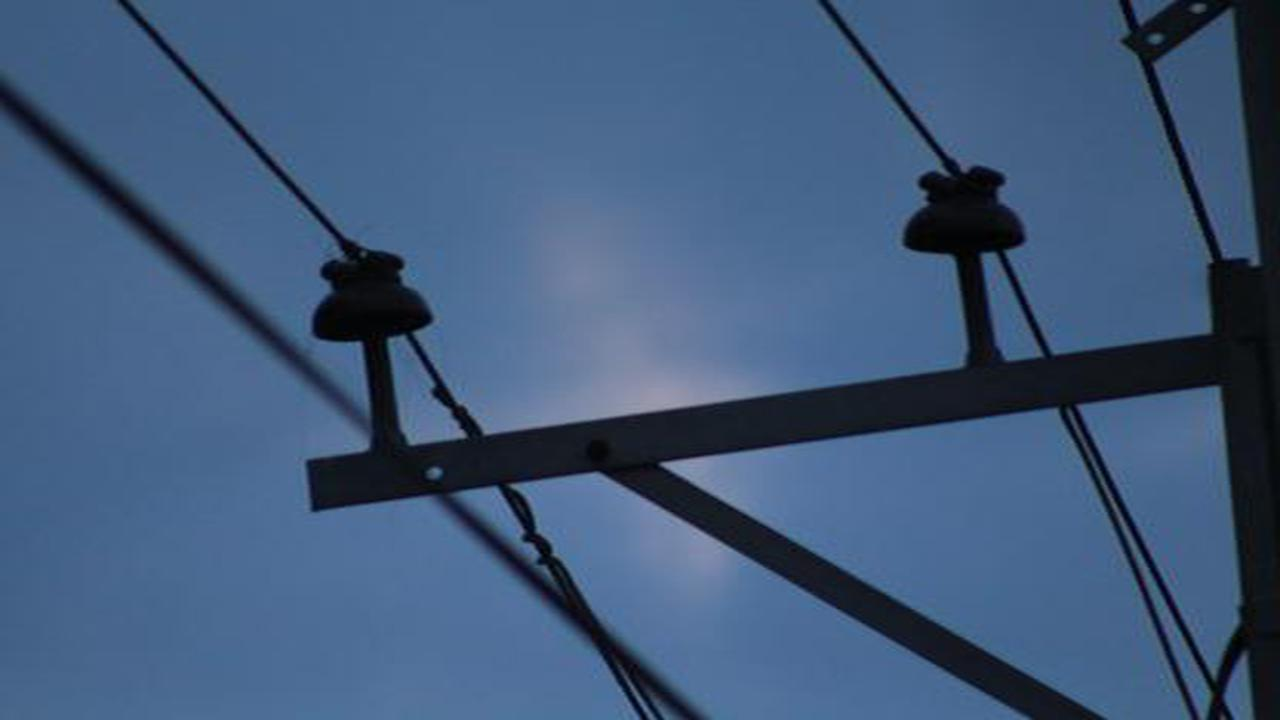insulator_pin: (893, 163, 1033, 266), (304, 247, 442, 349)
